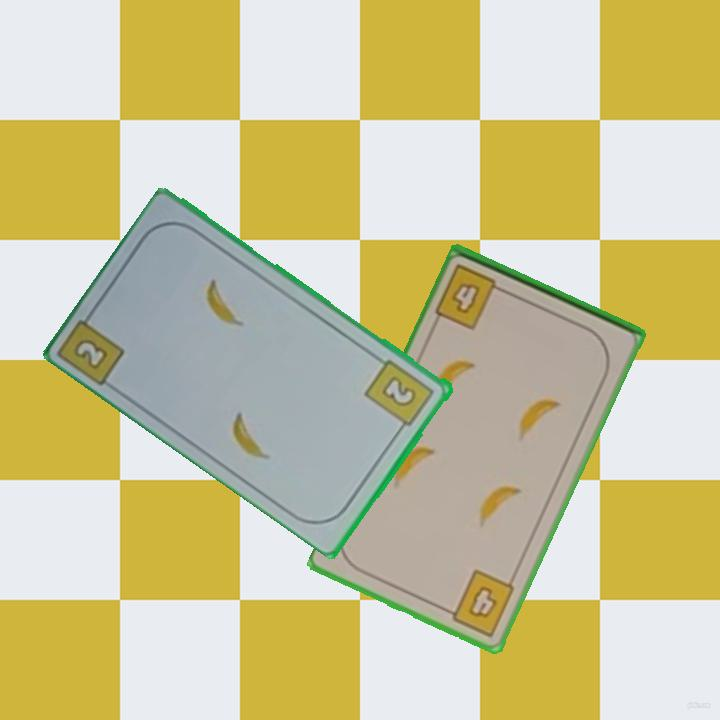2b: (57, 303, 129, 388), (362, 355, 438, 435)
4b: (440, 565, 518, 640), (432, 260, 512, 333)
